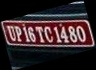character: (75, 25, 86, 43), (67, 25, 77, 43), (35, 26, 45, 43), (43, 26, 53, 43), (60, 25, 69, 43), (7, 25, 16, 42), (22, 26, 31, 43), (27, 26, 36, 43), (53, 26, 62, 43), (14, 25, 22, 42)
